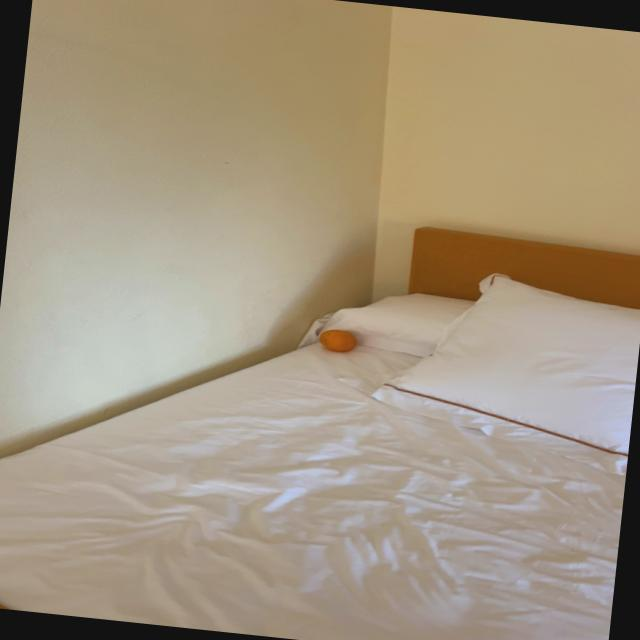orange: (320, 329, 355, 351)
